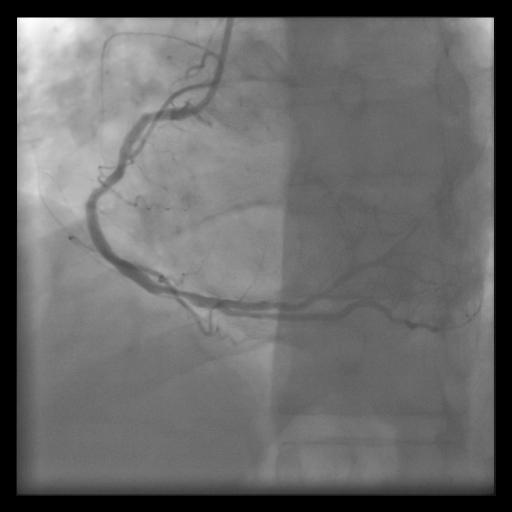Stenosis: (159, 277, 202, 306)
